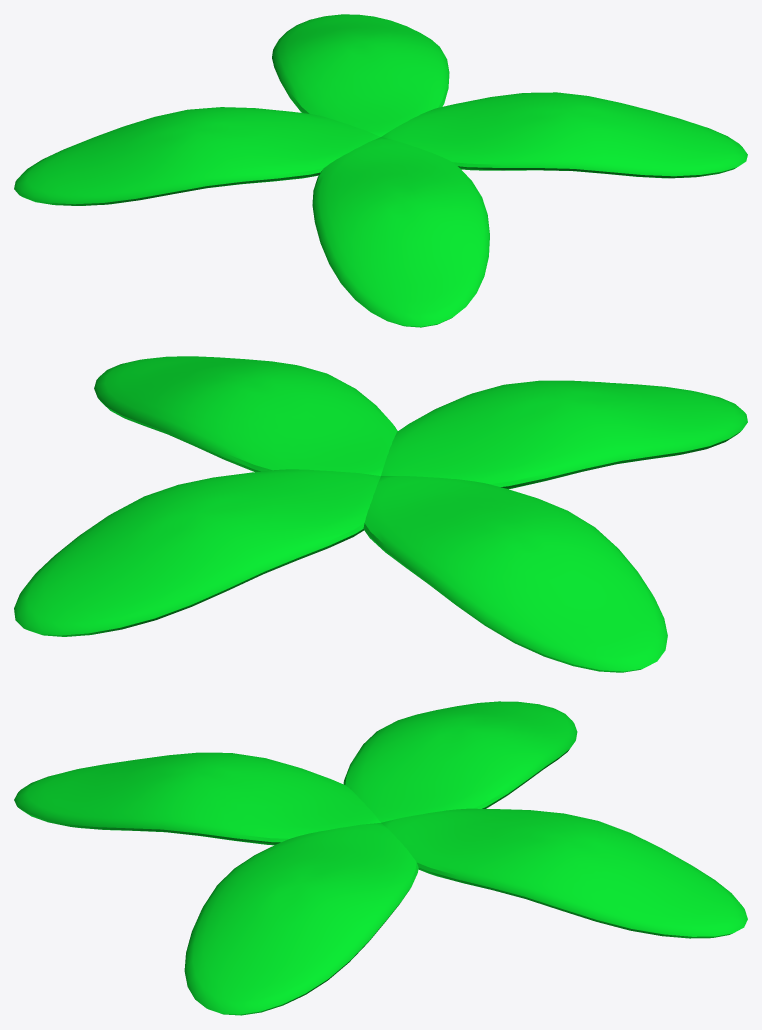
File: Onion Shooter Leaves.fbx
3 views of the same model, one above another, from view 1: azimuth 30°, elevation 25°; view 2: azimuth 150°, elevation 25°; view 3: azimuth 270°, elevation 25° (orthographic). The views are drawn at different scales.
Visible parts, largest first — view 1: Leaves; view 2: Leaves; view 3: Leaves.
Boxes of the visible parts, left/top/right/bottom form: Leaves: left=14, top=14, right=747, bottom=327; Leaves: left=14, top=356, right=747, bottom=672; Leaves: left=14, top=701, right=747, bottom=1015.
Size of the model in its own units: 364 by 32.16 by 364.
